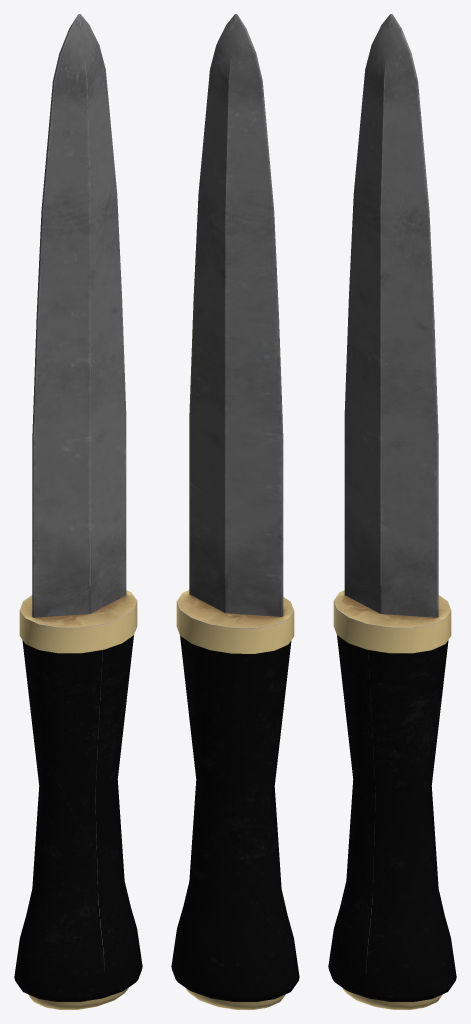
File: mp_dagger.glb
3 views of the same model, side by side, from view 1: azimuth 30°, elevation 25°; view 2: azimuth 150°, elevation 25°; view 3: azimuth 330°, elevation 25° (orthographic).
Visible parts, largest first — view 1: Dagger; view 2: Dagger; view 3: Dagger.
Boxes of the visible parts, x1,y1,x2,y2 form: Dagger: (14,14,142,1009); Dagger: (171,14,299,1009); Dagger: (328,14,456,1009).
Bounding box in the file's own units: 0.0445 × 0.36 × 0.0367.
1 material, 1 textured.
